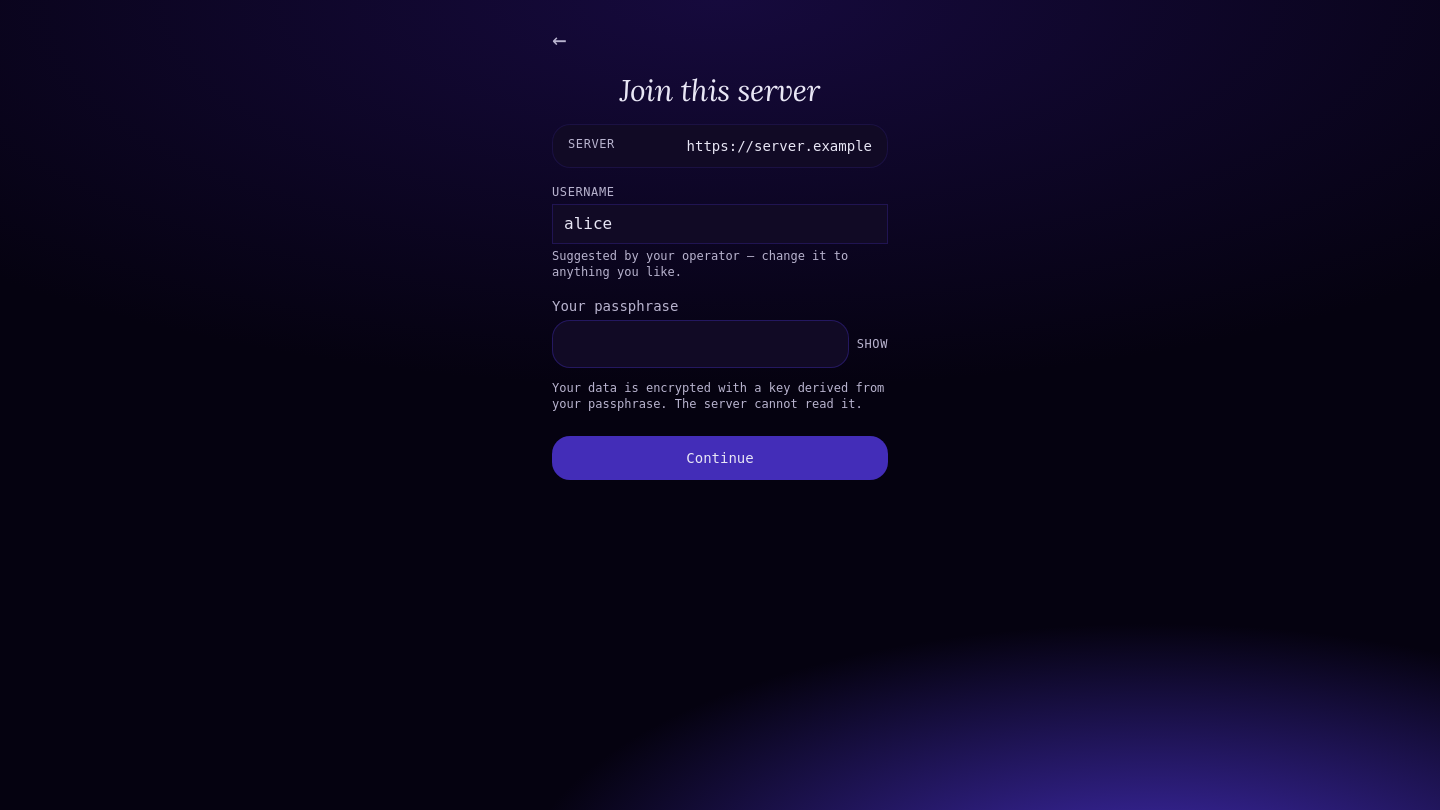
it: InvitationConfirm — suggested-username pre-fill (Bug 2) › drops the provenance cue once the user edits the suggested name
Step 1. Replace the text in the field labelled "Username" with "alice2" → x=720, y=224, box [552,204,888,244]
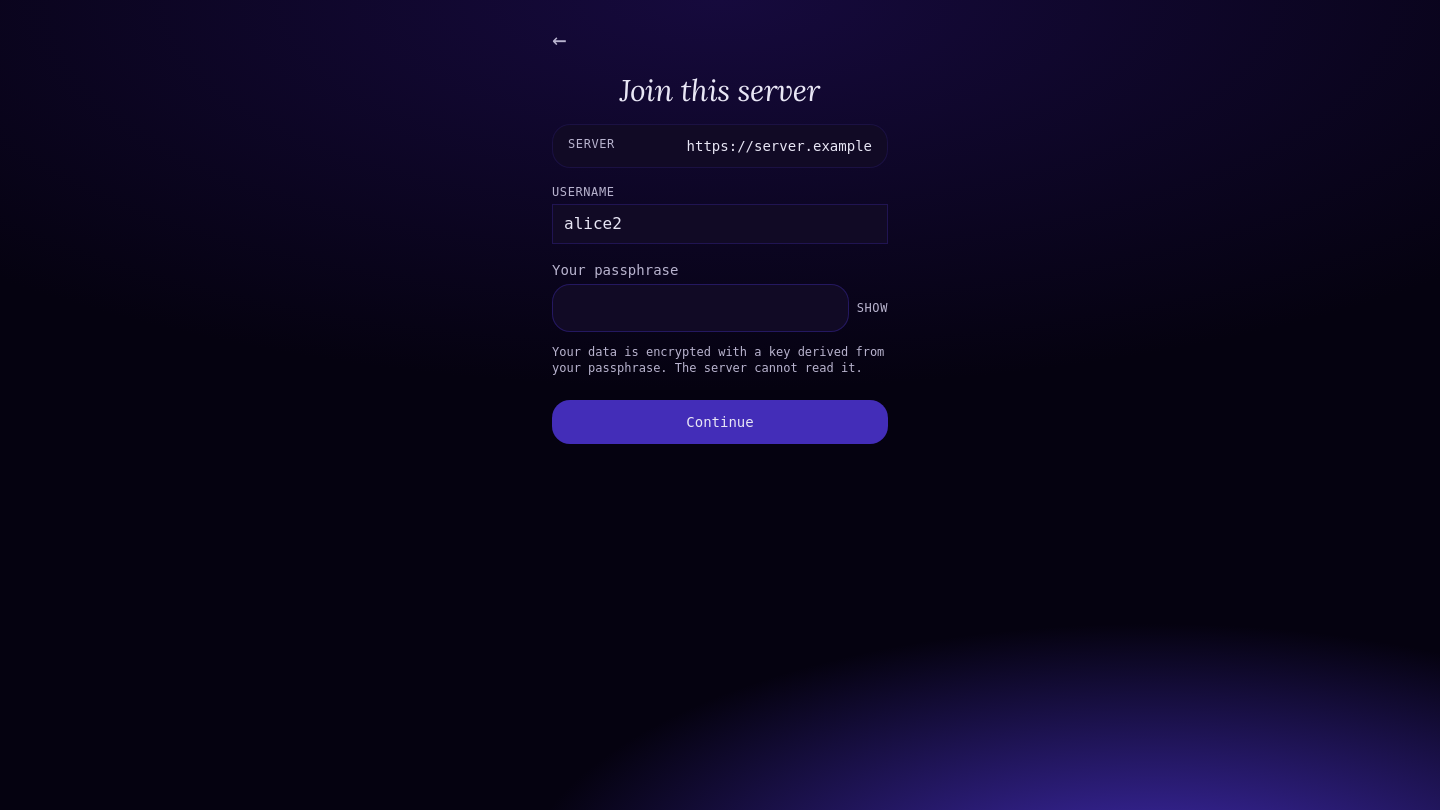
Check: the text "Suggested by your operator" is gone
